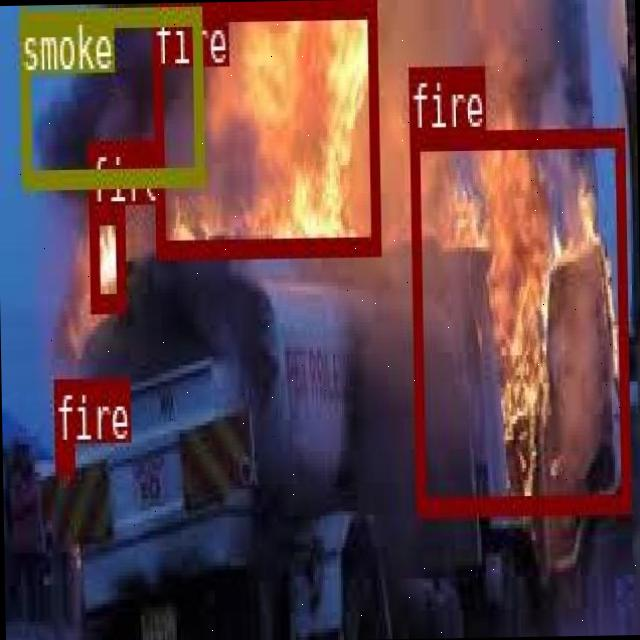fire: (408, 126, 630, 514), (150, 0, 377, 253), (89, 203, 125, 306), (54, 440, 73, 470)
smoke: (16, 6, 202, 185)
